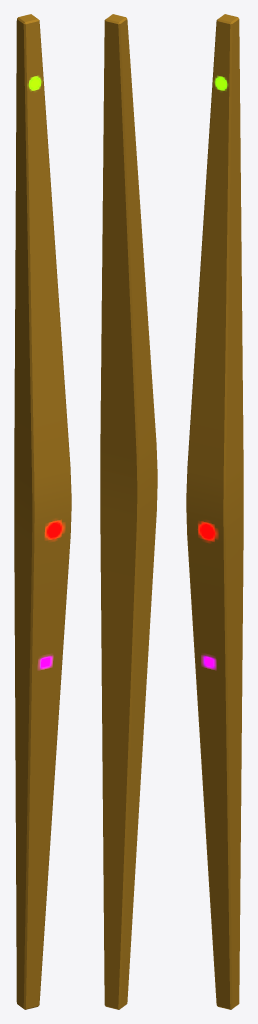
File: chairLegBack.gltf
The picture shows the model from 3 angles, left to right: view 1: azimuth 30°, elevation 25°; view 2: azimuth 150°, elevation 25°; view 3: azimuth 330°, elevation 25°; orthographic projection.
Visible parts, largest first — view 1: backLeg_right; view 2: backLeg_right; view 3: backLeg_right.
Part boxes in pixels (bbox=[...]): backLeg_right: bbox=[14, 14, 71, 1009]; backLeg_right: bbox=[100, 14, 157, 1009]; backLeg_right: bbox=[186, 14, 243, 1009].
Size of the model in its own units: 0.0372 by 0.8895 by 0.0458.
1 material, 1 textured.
